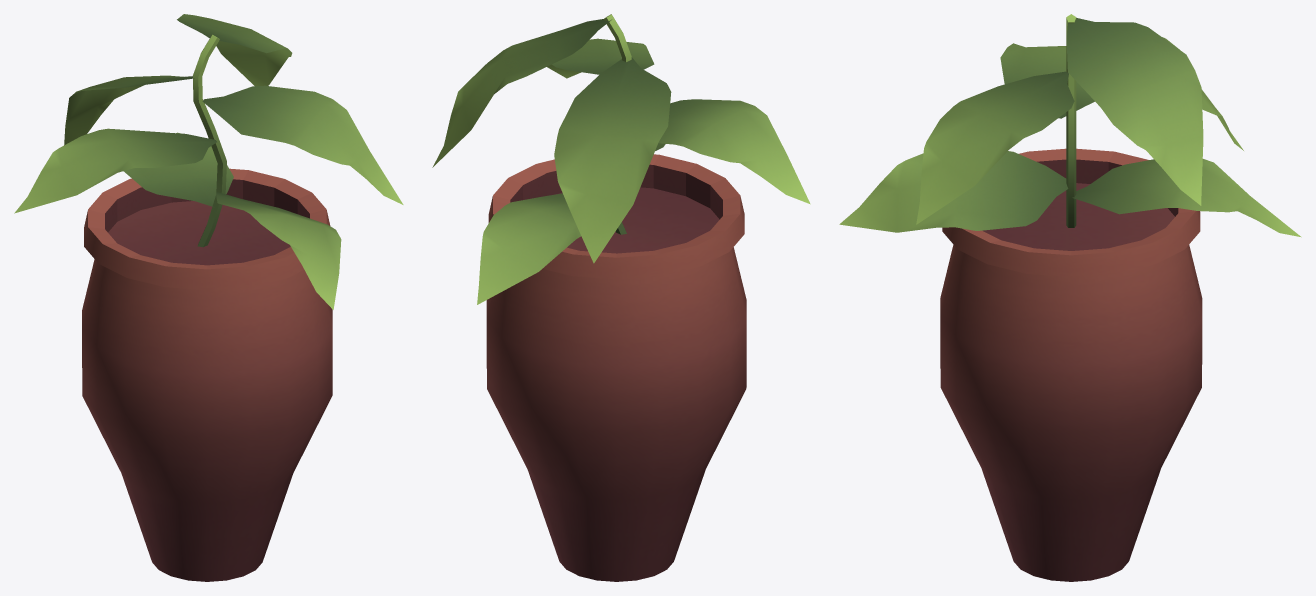
Rendered from M_plant.FBX.
3 renders of one model, left to right at view 1: azimuth 30°, elevation 25°; view 2: azimuth 150°, elevation 25°; view 3: azimuth 270°, elevation 25°, orthographic. The views are drawn at different scales.
Parts seen in each view (by area): view 1: Cylinder002; view 2: Cylinder002; view 3: Cylinder002.
Boxes of the visible parts, x1=… form: Cylinder002: x1=14, y1=14, x2=403, y2=581; Cylinder002: x1=432, y1=14, x2=810, y2=581; Cylinder002: x1=839, y1=14, x2=1301, y2=581.
Bounding box in the file's own units: 35.7 × 43.83 × 57.01.
